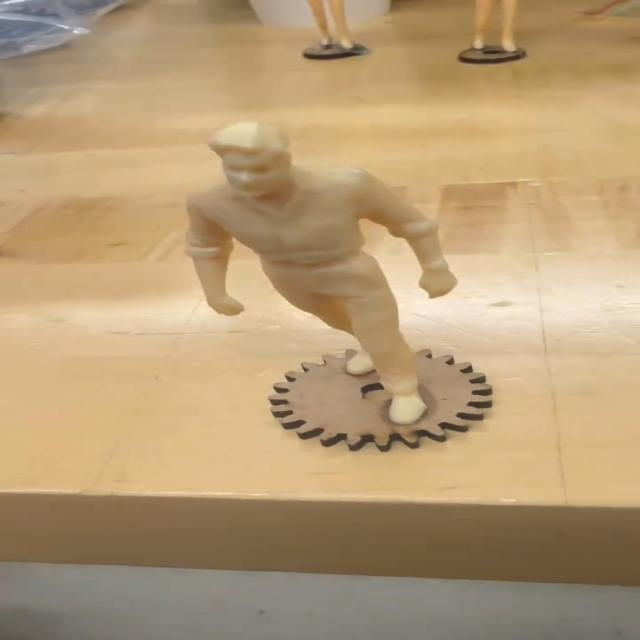Unauthorized: (154, 109, 466, 435)
